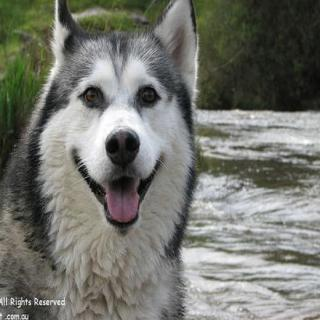dog: (48, 0, 205, 233)
nose: (103, 122, 143, 171)
